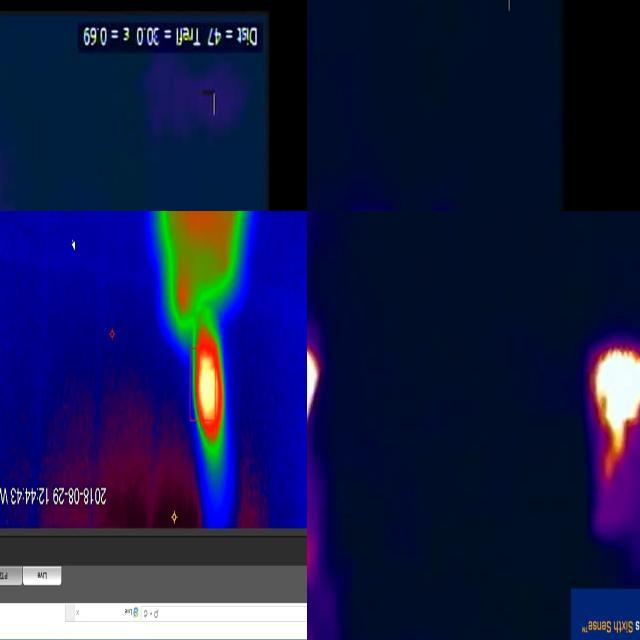fire: (590, 340, 640, 467), (193, 321, 225, 467), (304, 352, 327, 424)
